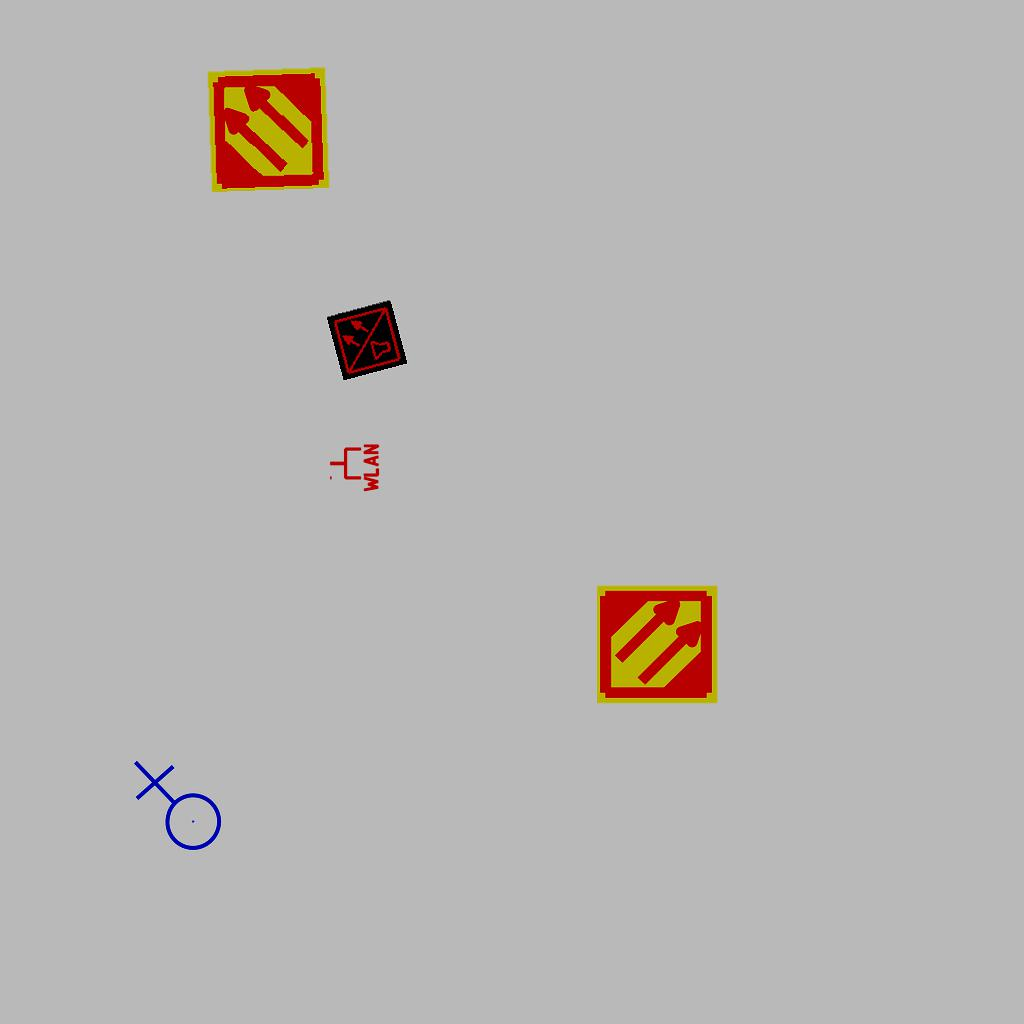ASR_Ansaugrauchmelder: (203, 64, 334, 195), (595, 582, 720, 707)
Elektroanschluss_allgemein_230V_Geraeteanschlussdose_230V: (129, 760, 223, 859)
OKW_Multisensormelder_(Kombination_optischer_Rauch-Kahlenmonoxid_Waerme-Melder): (326, 299, 408, 381)
WLAN: (328, 442, 380, 494)
